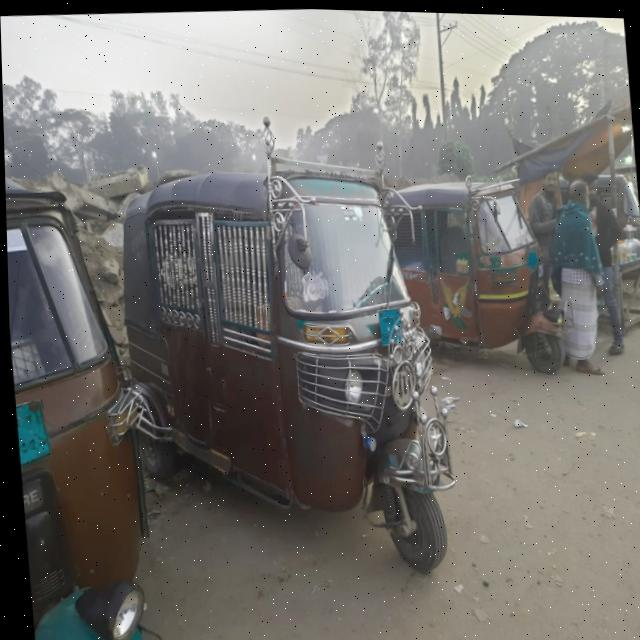cng: (118, 131, 507, 600), (384, 151, 554, 375)
